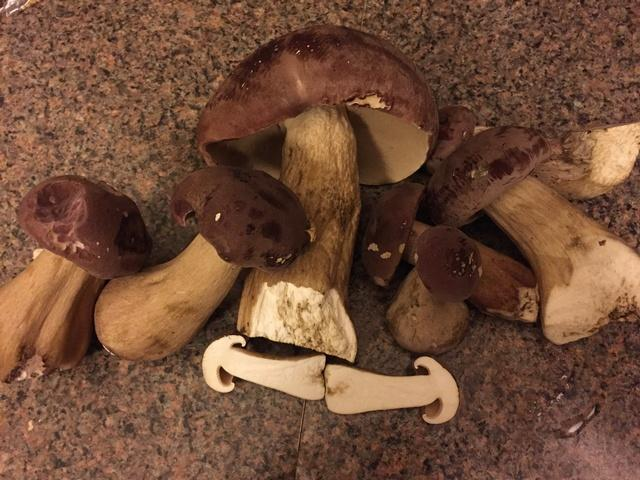Non-edible Mushroom: (193, 23, 439, 362), (438, 104, 640, 376), (92, 163, 310, 362), (0, 172, 152, 382), (184, 330, 481, 429)
